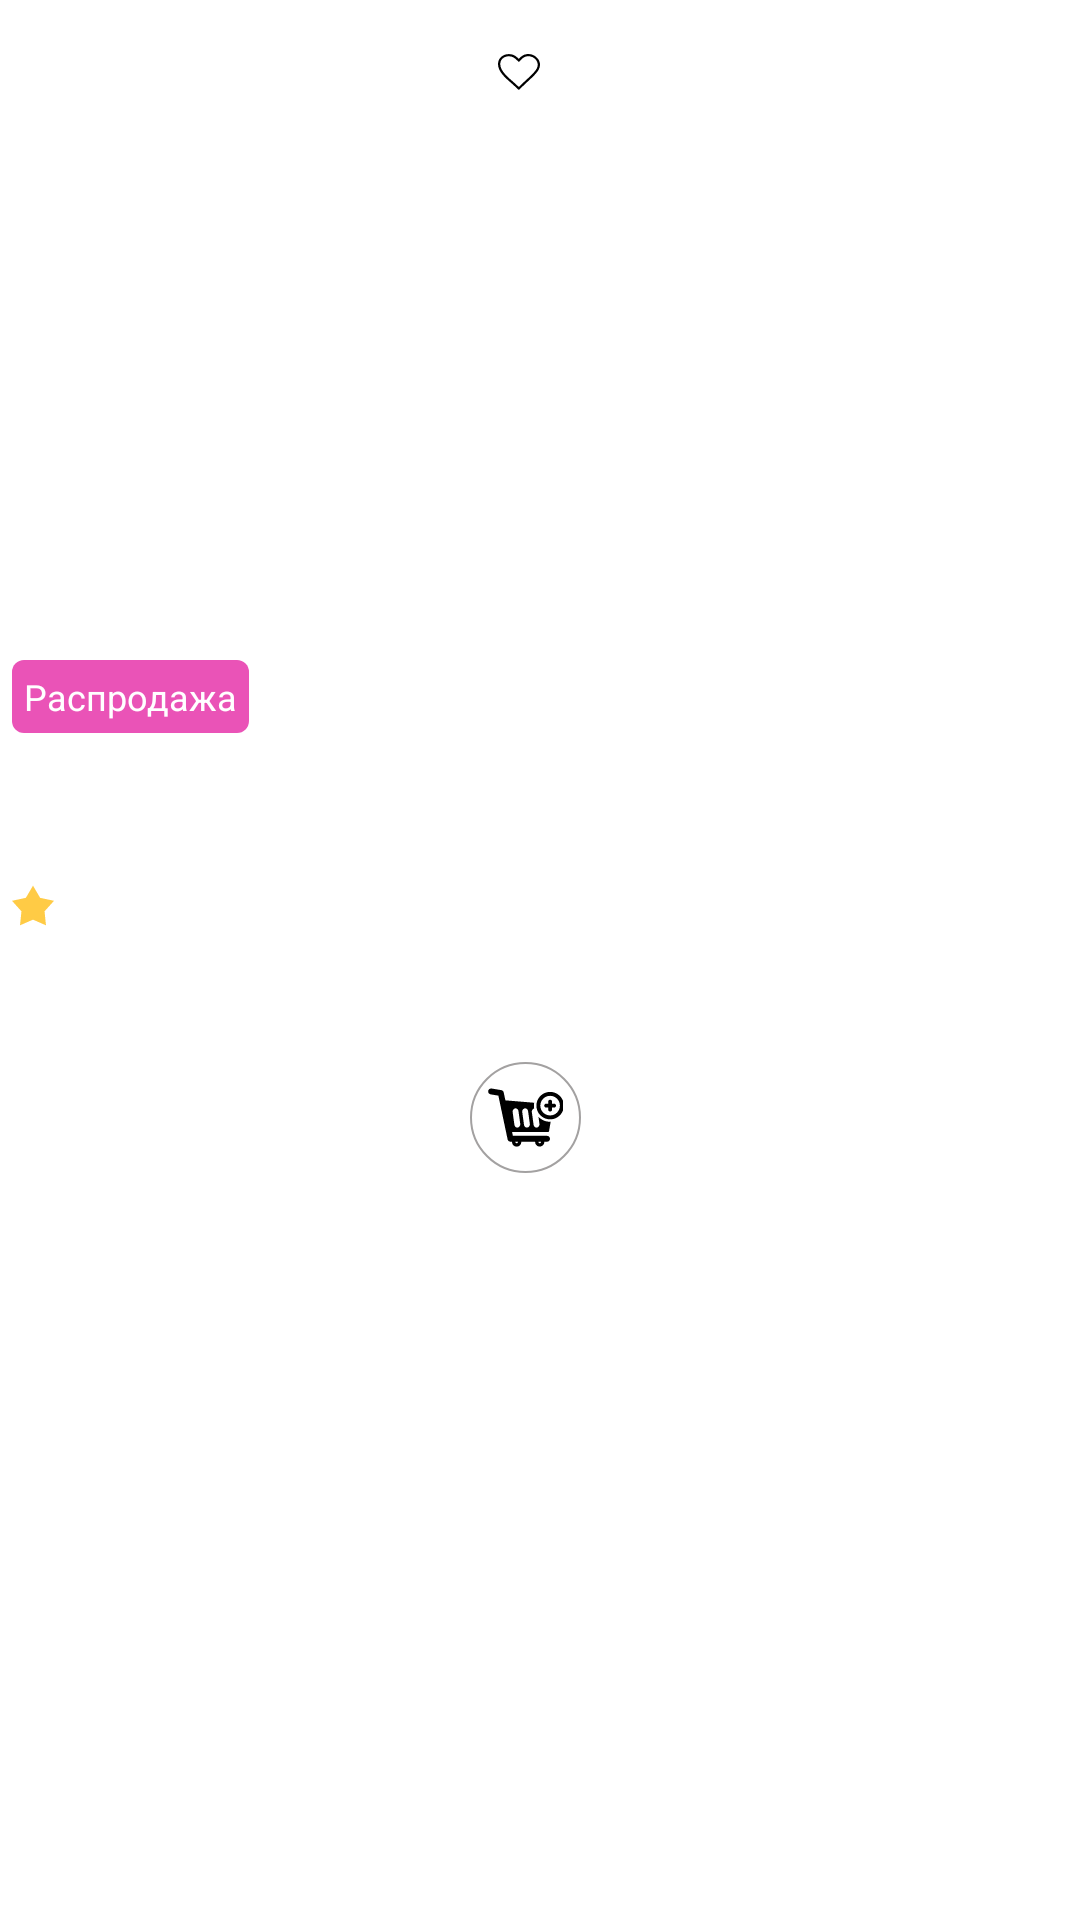

Screen size 1080px×1920px. Icon name, then its center in pixels as (x,y):
heart: (519,72)
im shopping for utton: (525,1117)
